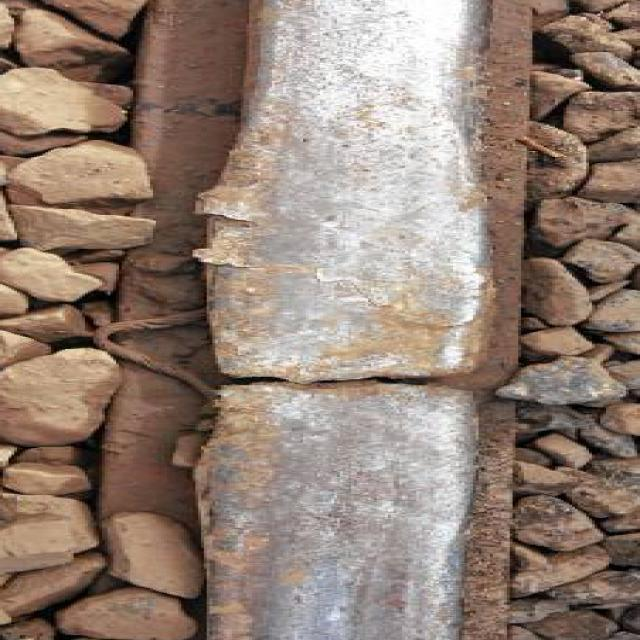squats_high: (194, 140, 502, 538)
